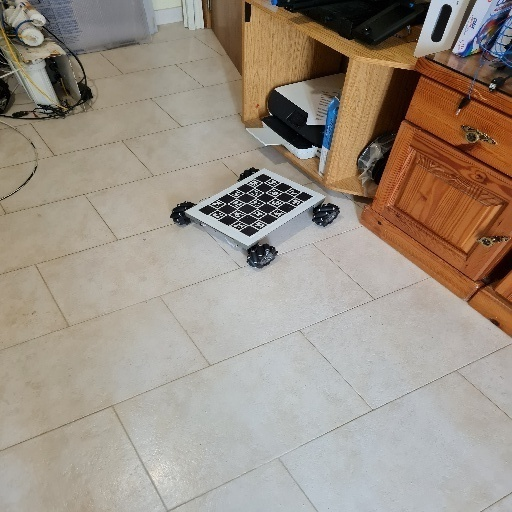Omniwheel: (169, 166, 341, 271)
